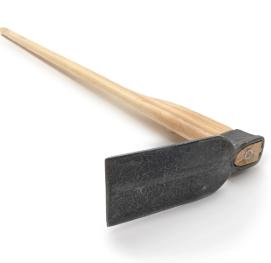HOUE: (0, 11, 268, 263)
